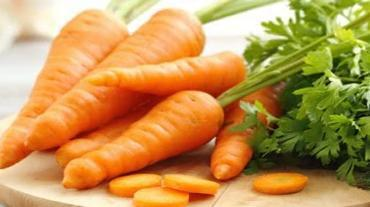carrot: (0, 7, 283, 179), (59, 83, 271, 182), (74, 52, 258, 106)
